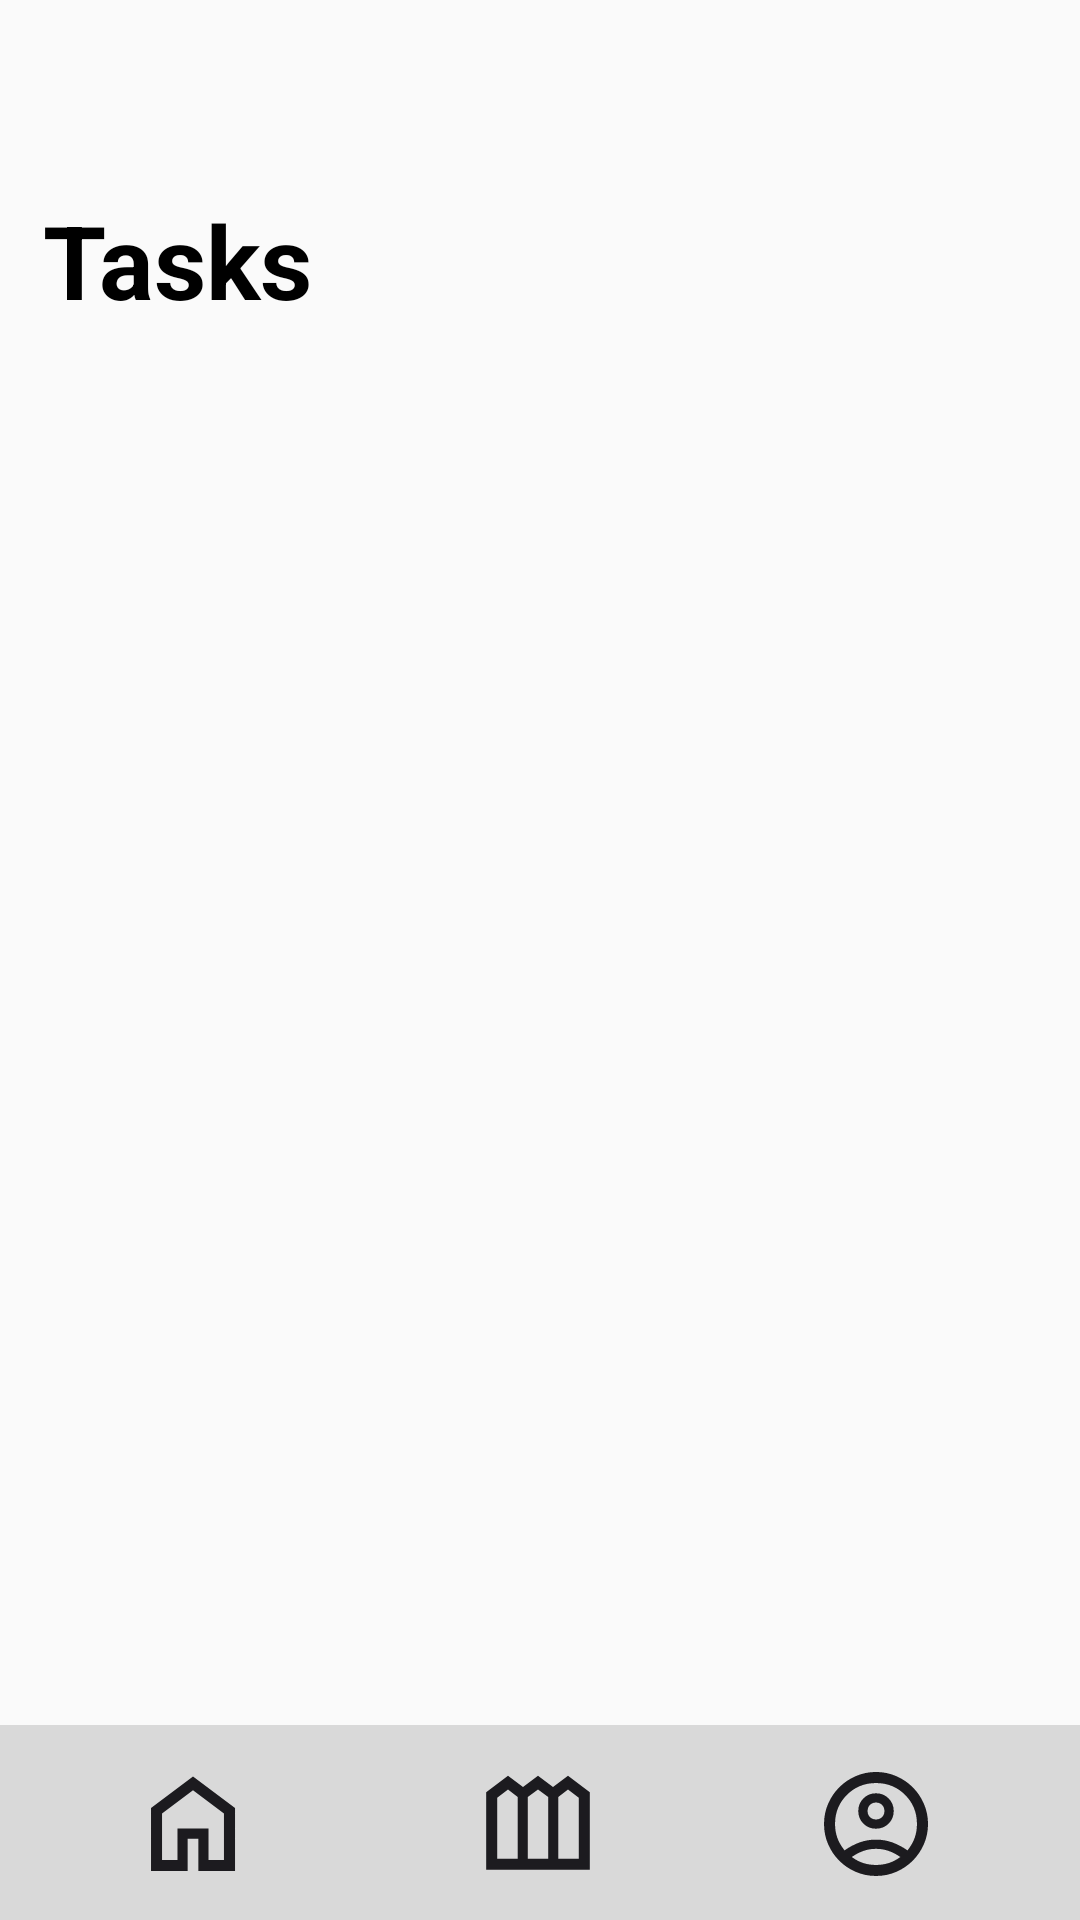

Where icons sit on this 1080 x 1920 app screen, as (x1, y1, x2, y2):
home: (151, 1776, 235, 1871)
outdoor garden: (486, 1776, 590, 1870)
